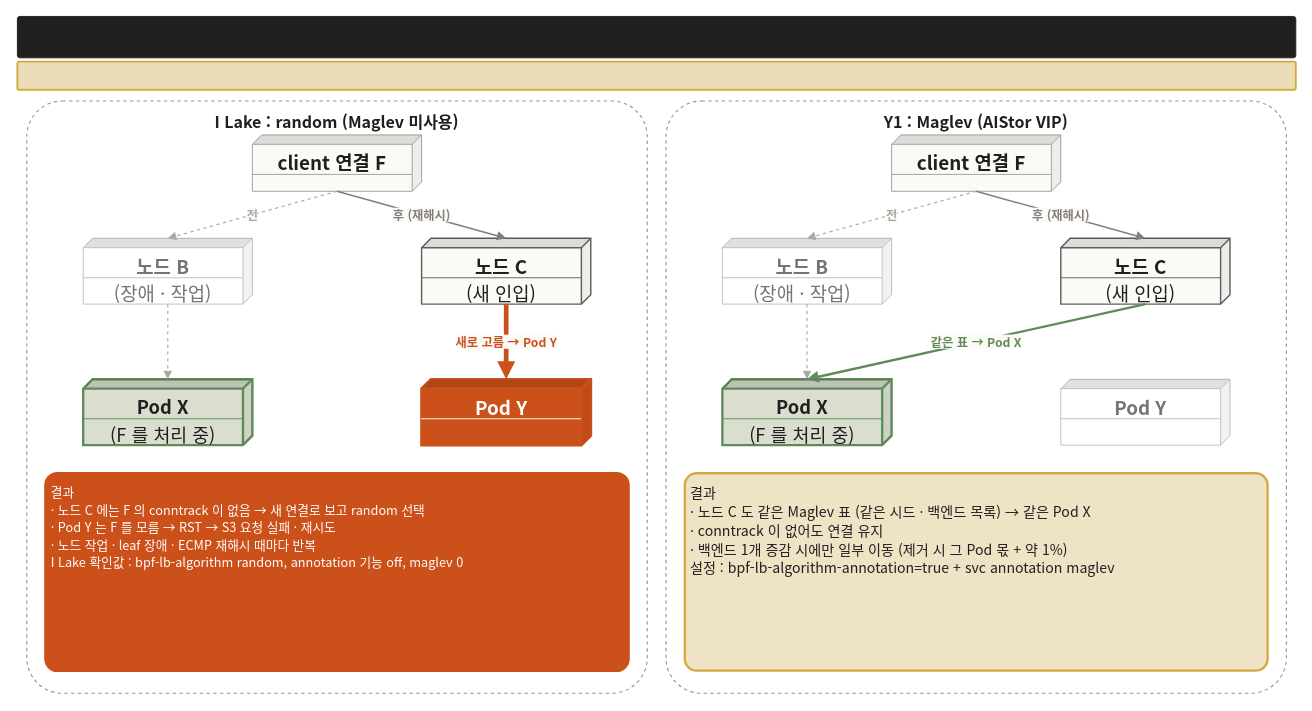
Some shapes in this 1312 by 711 pixel diagram are drawn without their labels. The centre of each missing label's shape, as x and y in pixels:
"그림 4-2. 인입 노드가 바뀔 때 : random → Maglev" belongs at [656,37].
"노드 B 장애 · 작업으로 패브릭이 흐름을 노드 C 로 옮김. 새 노드가 같은 백엔드를 고르는지가 연결 유지를 결정" belongs at [656,75].
